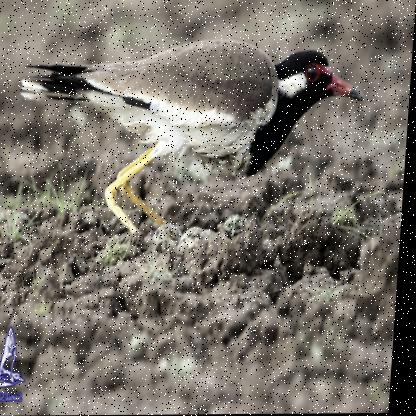Burung: (14, 38, 369, 237)
